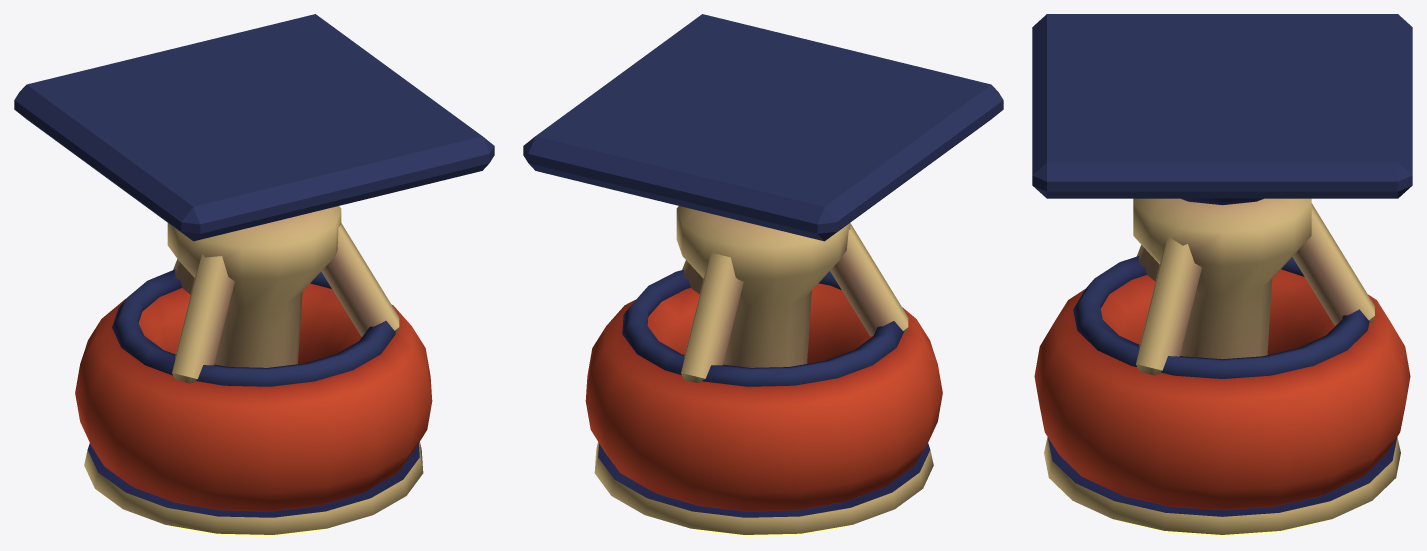
File: R4M_HoverEngine_LOD1.fbx
3 renders of one model, left to right at view 1: azimuth 30°, elevation 25°; view 2: azimuth 150°, elevation 25°; view 3: azimuth 270°, elevation 25°, orthographic. The views are drawn at different scales.
Visible parts, largest first — view 1: R4M_HoverEngine_LOD1; view 2: R4M_HoverEngine_LOD1; view 3: R4M_HoverEngine_LOD1.
Boxes of the visible parts, x1=… form: R4M_HoverEngine_LOD1: x1=14, y1=14, x2=494, y2=536; R4M_HoverEngine_LOD1: x1=523, y1=14, x2=1003, y2=536; R4M_HoverEngine_LOD1: x1=1032, y1=14, x2=1412, y2=536.
Size of the model in its own units: 0.52 by 0.577 by 0.52.
